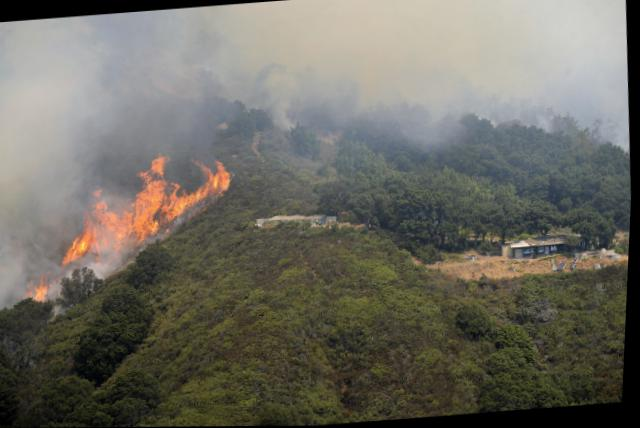fire: (0, 104, 261, 328)
